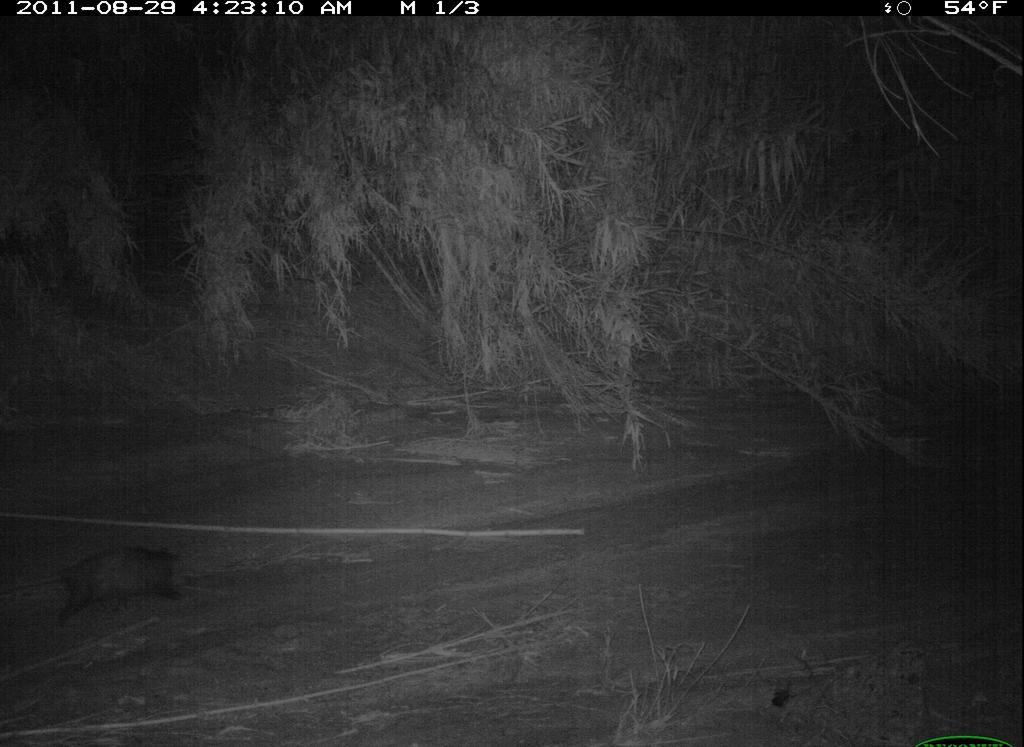opossum: (7, 532, 208, 625)
